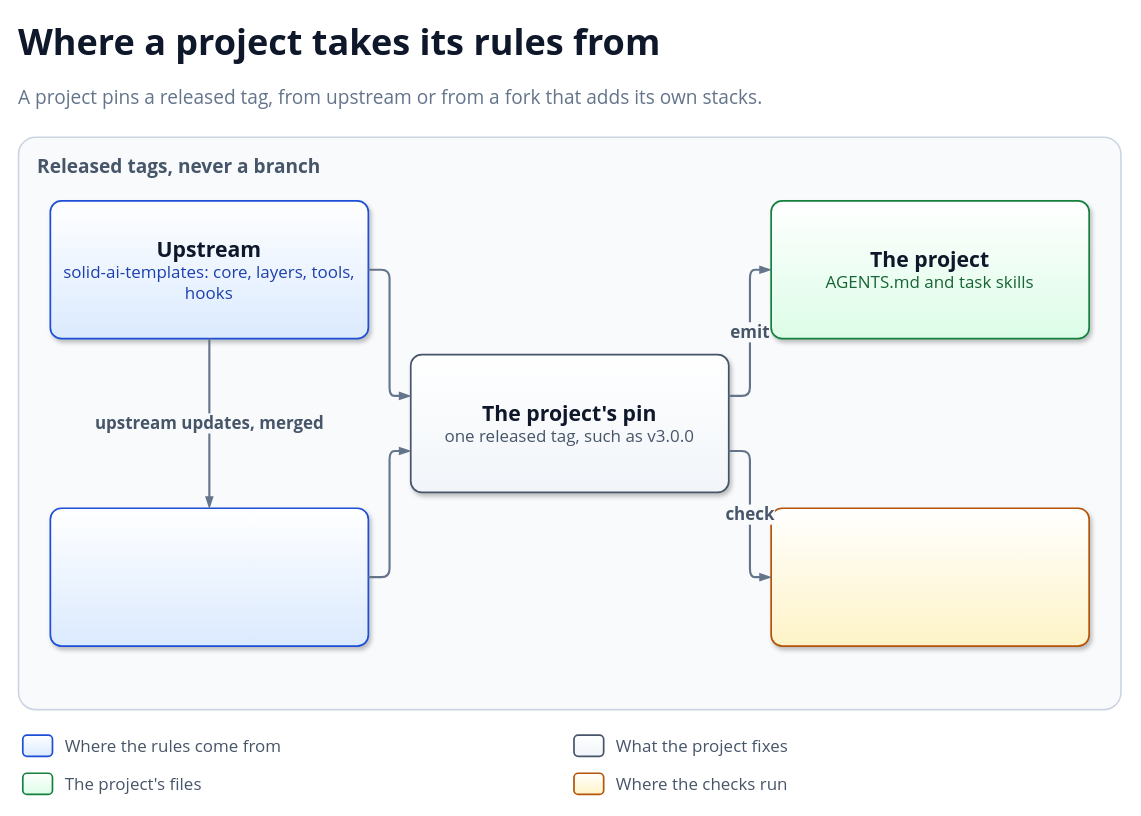
Image size: 1141x816. Some labels were removed from this diagram. The centre of each missing label's shape, as x and y in pixels:
A fork adds stacks, platforms and process rules: (x=210, y=578)
Its commits and CI pre-commit hooks at the pin: (x=931, y=578)
